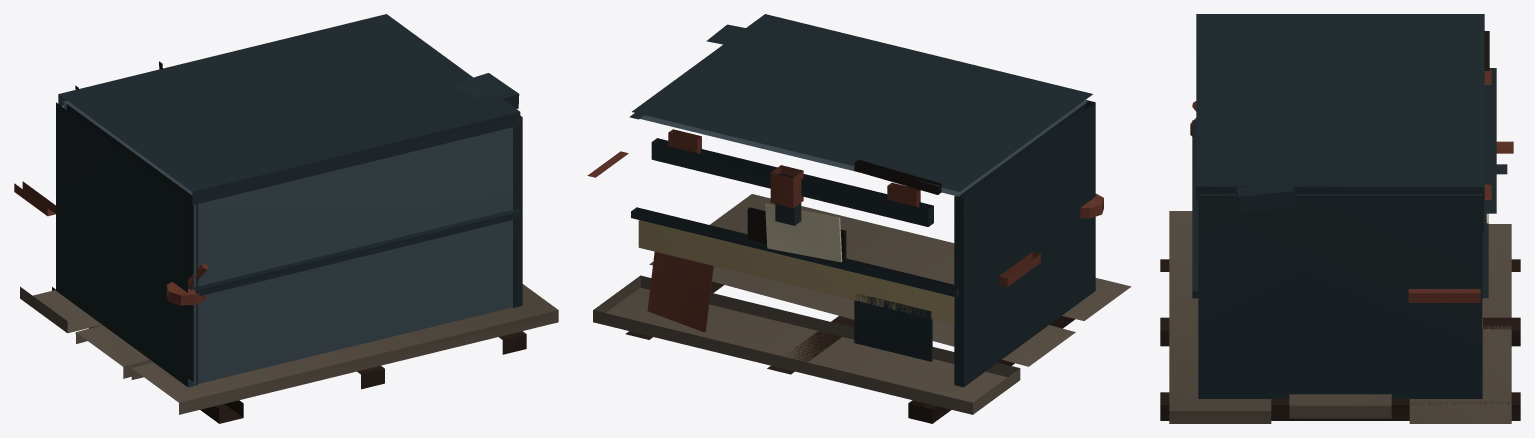
The model's file is cave_trade_drop.glb.
The picture shows the model from 3 angles, left to right: view 1: azimuth 30°, elevation 25°; view 2: azimuth 150°, elevation 25°; view 3: azimuth 270°, elevation 25°; orthographic projection. The views are drawn at different scales.
Visible parts, largest first — view 1: CaveTradeDrop_Mesh; view 2: CaveTradeDrop_Mesh; view 3: CaveTradeDrop_Mesh.
Part boxes in pixels (x1,y1,x2,y2): CaveTradeDrop_Mesh: (14,14,558,423); CaveTradeDrop_Mesh: (587,14,1131,423); CaveTradeDrop_Mesh: (1160,14,1520,423).
Size of the model in its own units: 1.31 by 0.6787 by 0.9.
